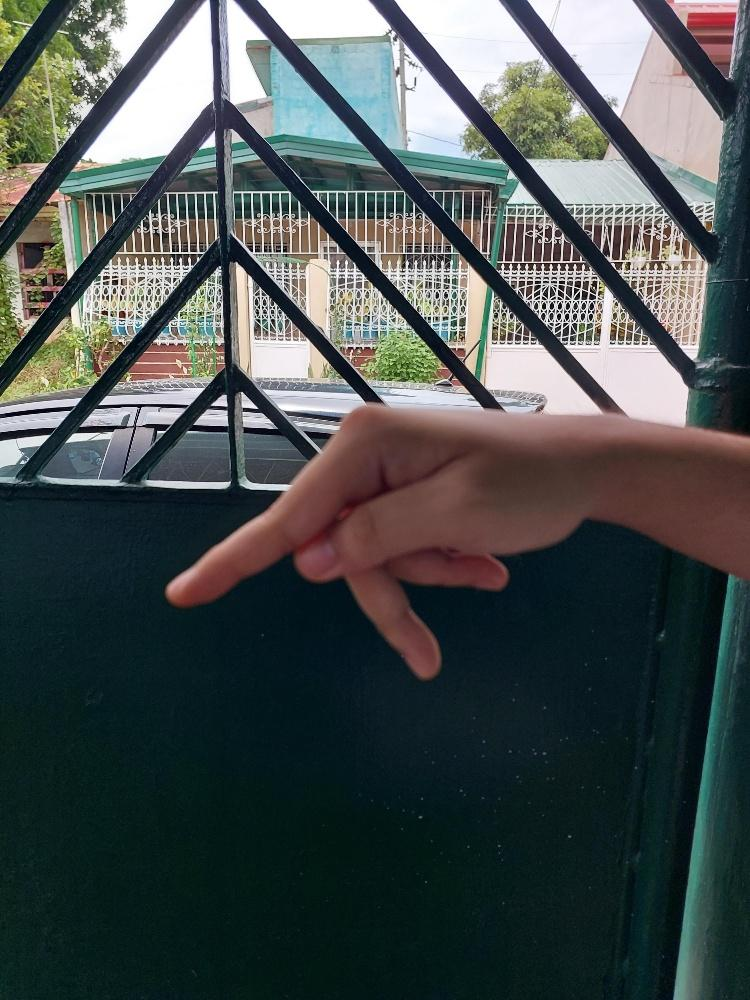p: (164, 398, 592, 681)
